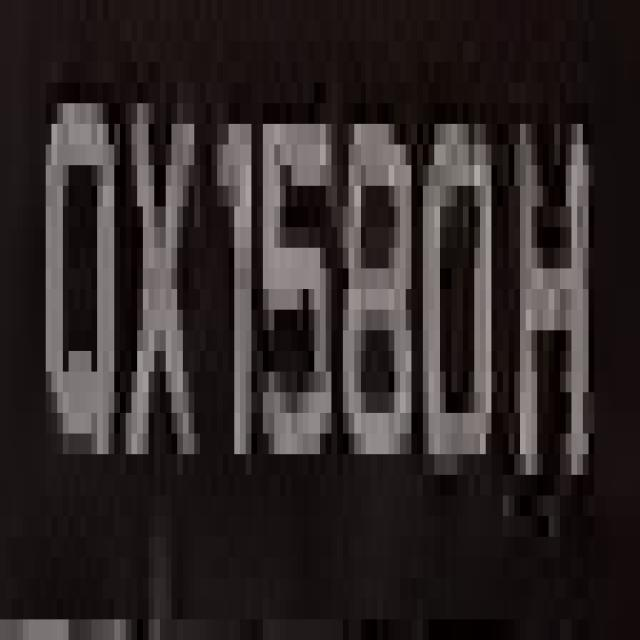0: (400, 62, 503, 495)
1: (217, 103, 263, 496)
5: (268, 62, 343, 454)
8: (332, 62, 417, 516)
H: (497, 62, 600, 516)
Q: (29, 62, 126, 475)
X: (114, 124, 200, 495)
